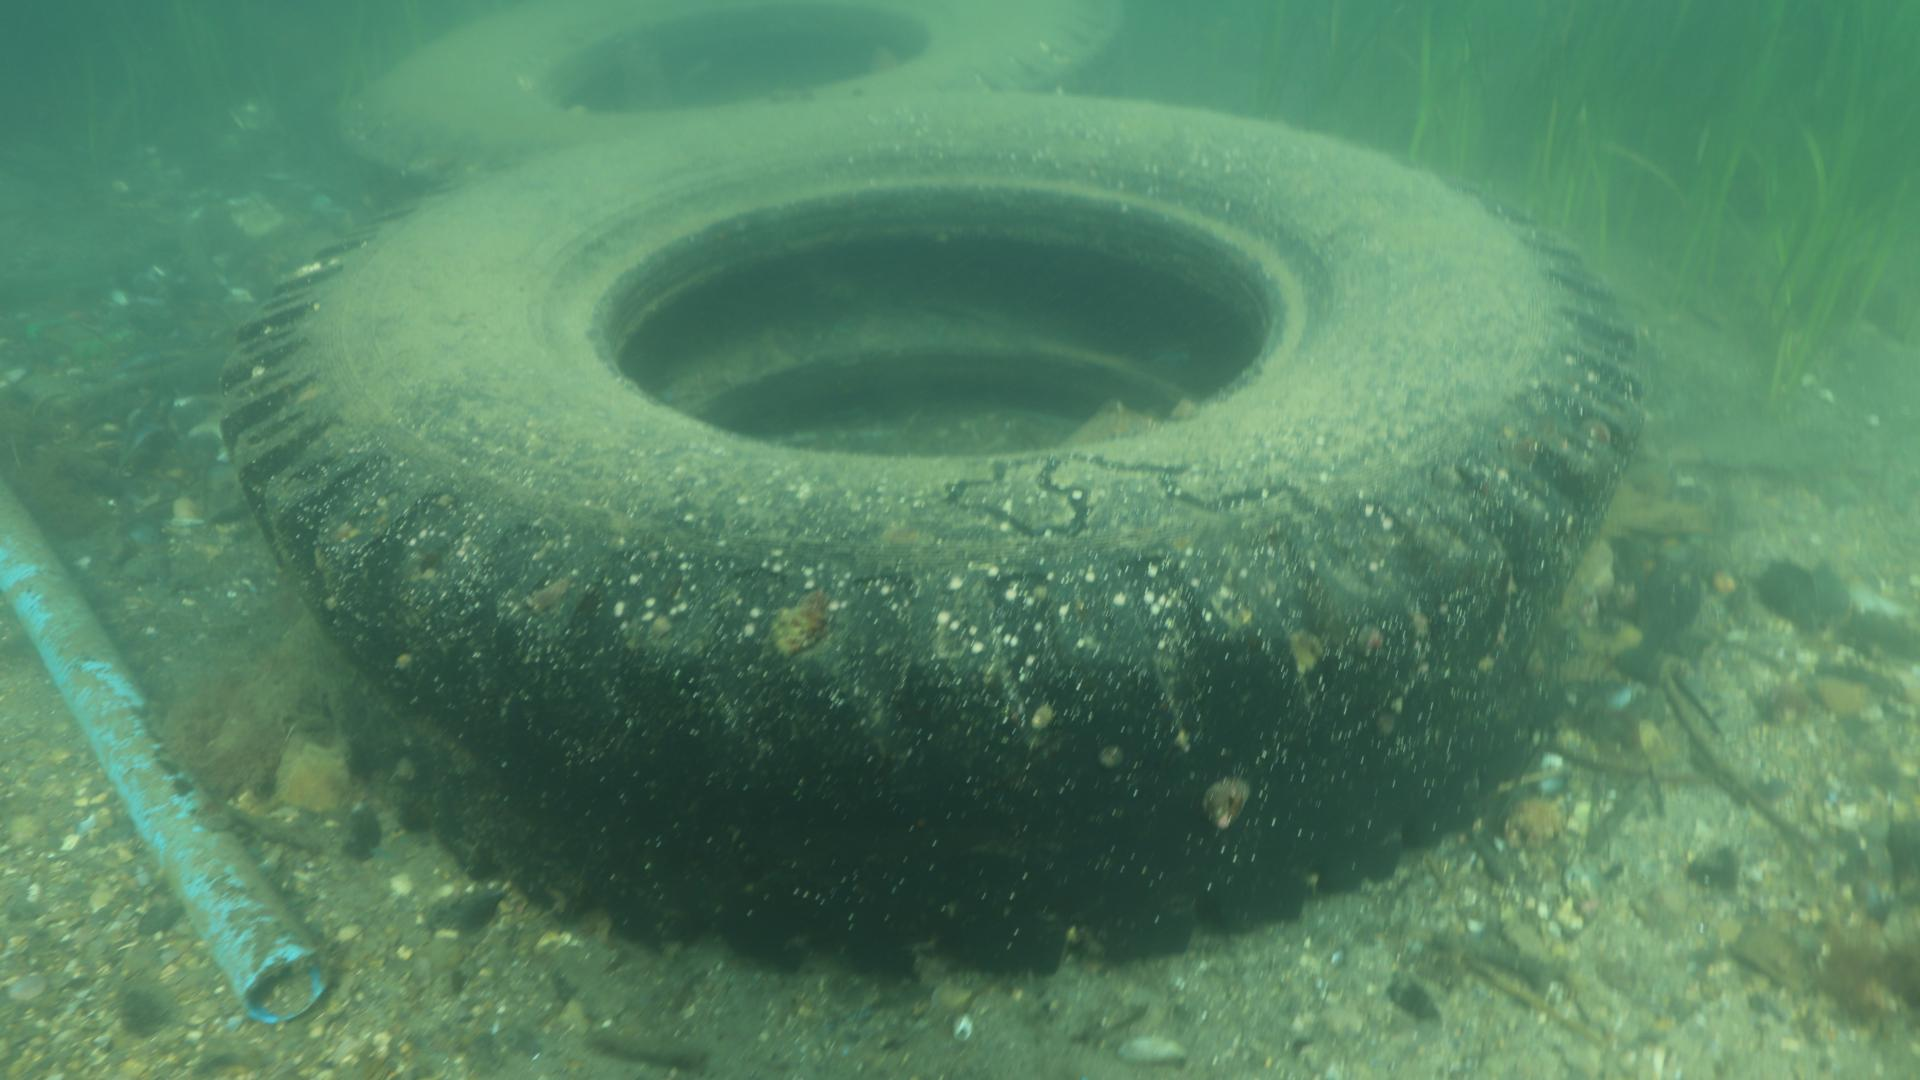tire: (219, 90, 1644, 976), (338, 0, 1120, 210)
